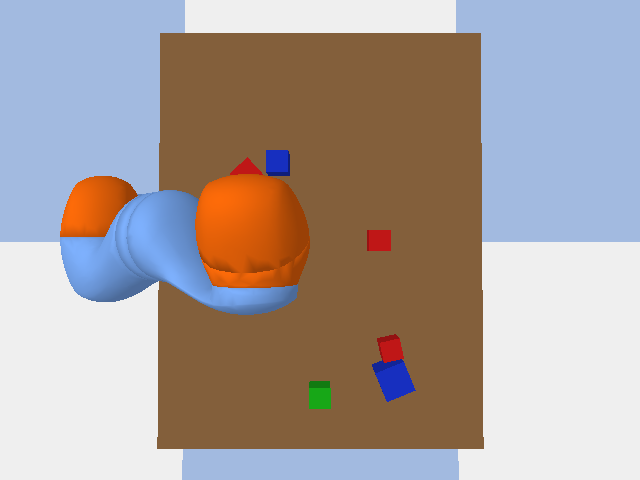blue_obj: (372, 359, 415, 401), (266, 150, 289, 175)
green_obj: (309, 381, 330, 408)
red_obj: (377, 334, 403, 362), (230, 157, 262, 174), (367, 230, 390, 250)
